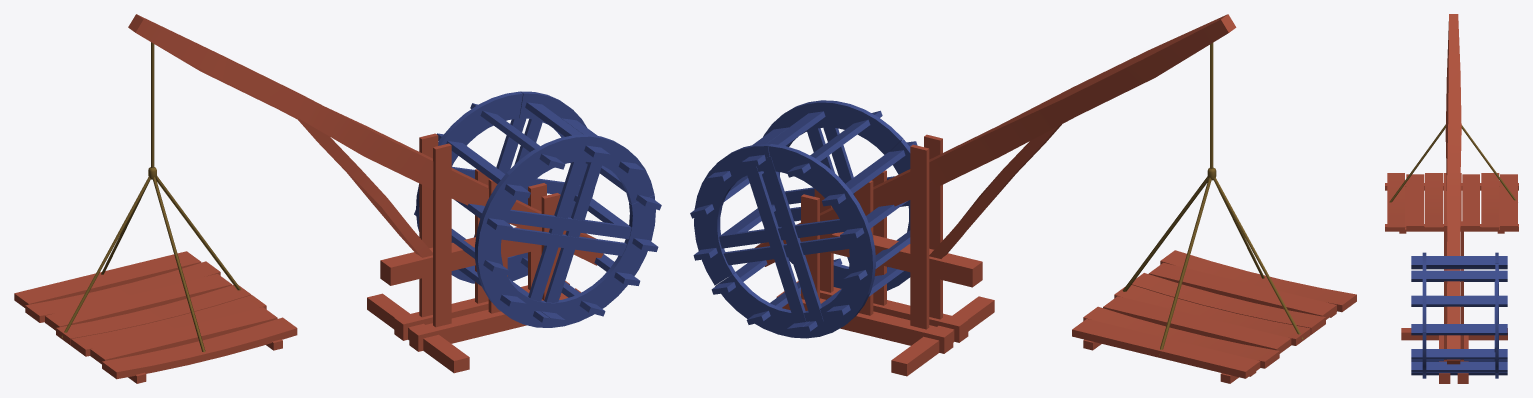
File: SM_crane_02.fbx
3 views of the same model, side by side, from view 1: azimuth 30°, elevation 25°; view 2: azimuth 150°, elevation 25°; view 3: azimuth 270°, elevation 25° (orthographic). The views are drawn at different scales.
Parts seen in each view (by area): view 1: Box467; view 2: Box467; view 3: Box467.
Boxes of the visible parts, left/top/right/bottom form: Box467: left=14, top=14, right=661, bottom=383; Box467: left=690, top=14, right=1356, bottom=383; Box467: left=1385, top=14, right=1518, bottom=383.
Size of the model in its own units: 343 by 226 by 114.
